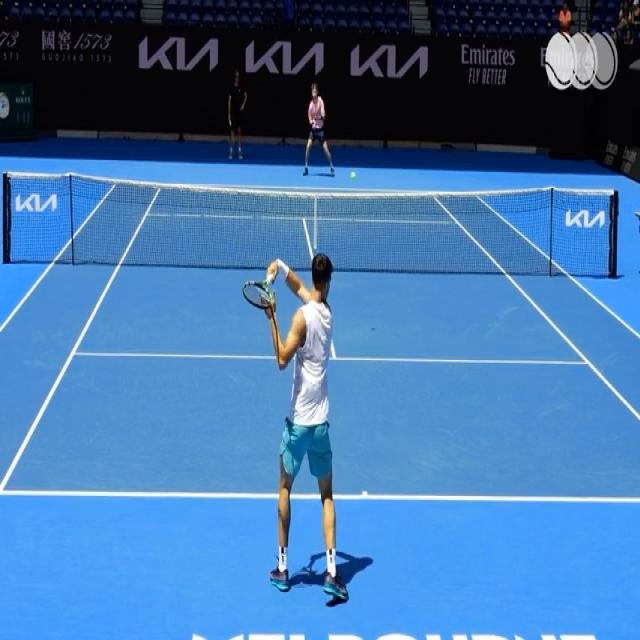forehand-finish: (241, 243, 361, 610)
